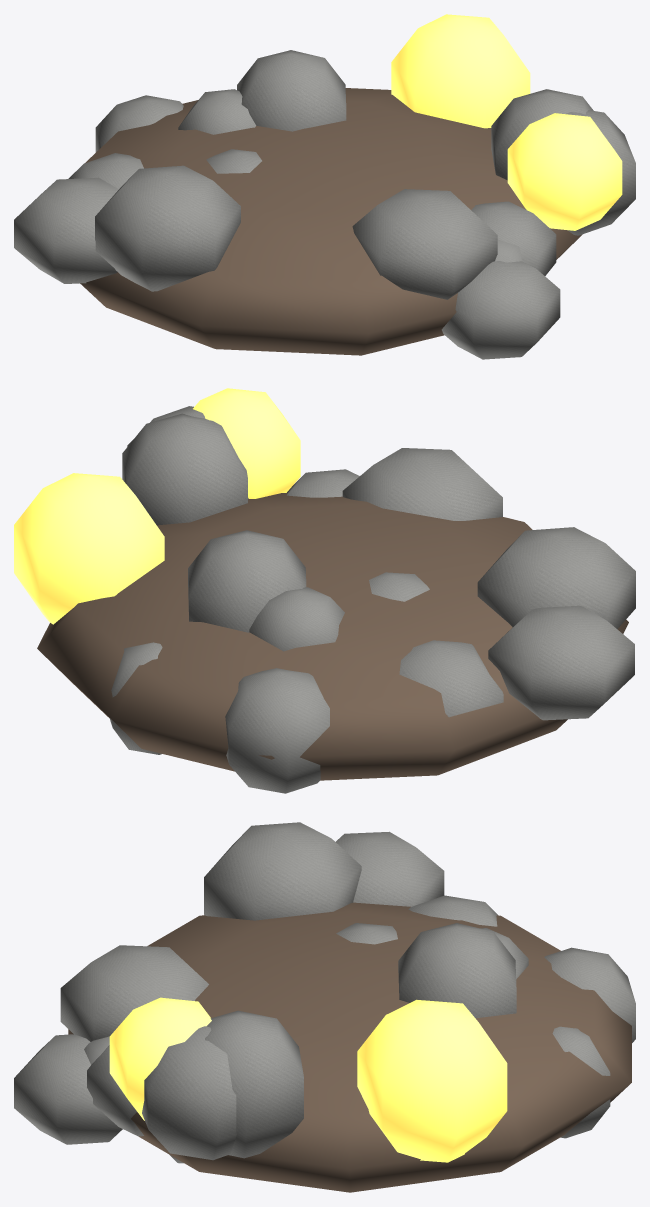
Rendered from fps-survival-forest-outpost-ore-pile-595ae3b5__32670.glb.
The picture shows the model from 3 angles, top to bottom: view 1: azimuth 30°, elevation 25°; view 2: azimuth 150°, elevation 25°; view 3: azimuth 270°, elevation 25°; orthographic projection. The views are drawn at different scales.
Parts seen in each view (by area): view 1: ore-pile; view 2: ore-pile; view 3: ore-pile.
Part boxes in pixels (x1,y1,x2,y2): ore-pile: (14,14,635,359); ore-pile: (14,388,635,793); ore-pile: (14,822,635,1192).
Bounding box in the file's own units: 0.9283 × 0.3426 × 0.8814.
3 materials, 1 textured.
